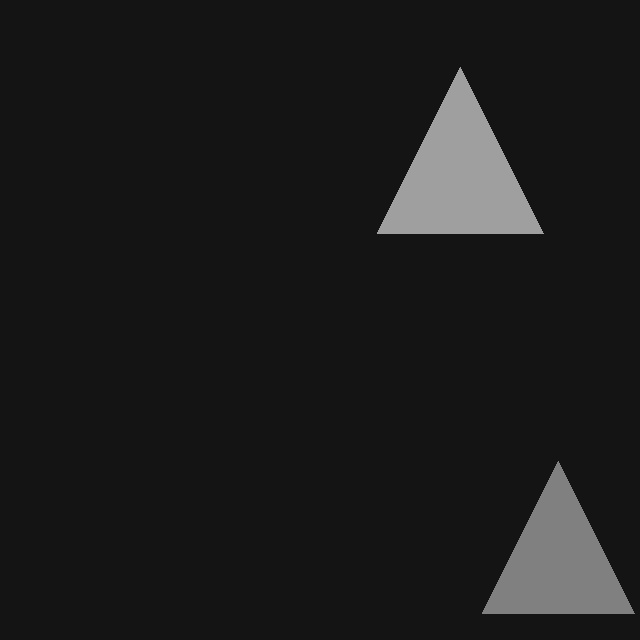triangle: (377, 67, 543, 233), (482, 461, 634, 613)
